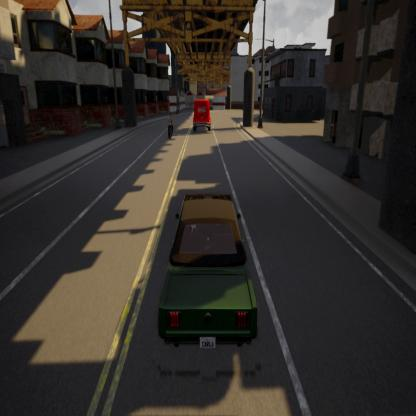Cars: (155, 166, 263, 365), (190, 92, 214, 136)
